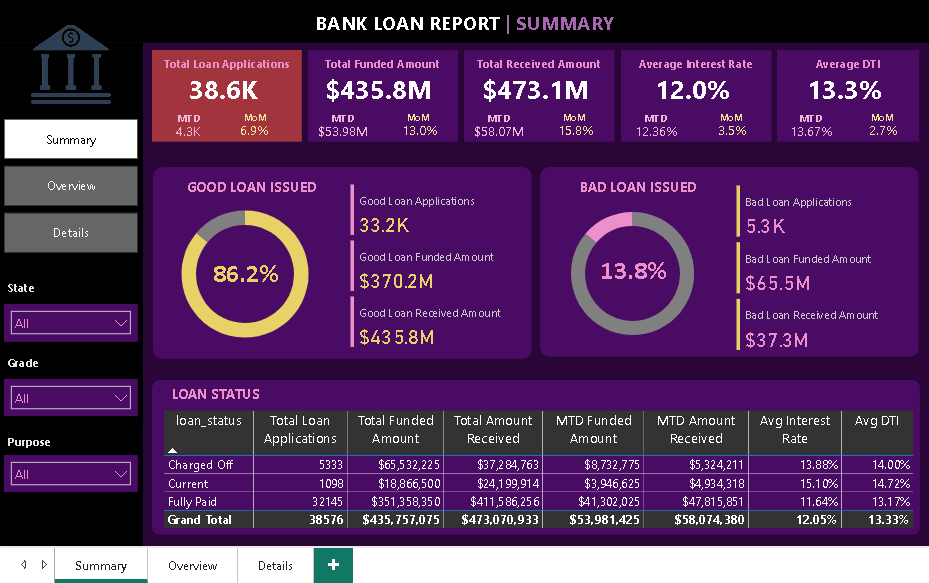

This screenshot's page, from the dashboard's own definition file:
{"tool":"powerbi","page":{"name":"Summary","canvas":[1331,780],"ordinal":0},"visuals":[{"type":"shape","box":[220,238.6,541.4,274.3],"z":0},{"type":"shape","box":[0,61.4,205.7,718.6],"z":1000},{"type":"textbox","box":[218,72,214,130.8],"z":1500,"group":"g1"},{"type":"textbox","box":[441.2,72,214,130.8],"z":1500,"group":"g3"},{"type":"textbox","box":[664.4,72,214.5,130.8],"z":1500,"group":"g4"},{"type":"textbox","box":[888.1,72,214.5,130.8],"z":1500,"group":"g5"},{"type":"textbox","box":[1111.9,72,202.8,130.8],"z":1500,"group":"g6"},{"type":"shape","box":[0,0,1331.4,61.4],"z":2000},{"type":"textbox","box":[0,7.3,1331.3,61.7],"z":3000},{"type":"group","id":"g1","title":"Group 2","box":[218,72,214,144],"z":3001,"group":"g2"},{"type":"group","id":"g2","title":"Group 1","box":[218,72,214,144],"z":4000},{"type":"card","fields":{"Values":["Date Table.Total Loan Applications"]},"box":[250.2,94,137.9,69.1],"z":4000,"group":"g1"},{"type":"card","fields":{"Values":["Date Table.Total Funded Amount"]},"box":[445.7,95.5,194,66.1],"z":4000,"group":"g3"},{"type":"card","fields":{"Values":["Date Table.Total Amount Received"]},"box":[668.9,95.5,194.5,66.1],"z":4000,"group":"g4"},{"type":"card","fields":{"Values":["Date Table.Avg Interest Rate"]},"box":[892.6,95.5,194.5,66.1],"z":4000,"group":"g5"},{"type":"card","fields":{"Values":["Date Table.Avg DTI"]},"box":[1116.1,95.5,183.8,66.1],"z":4000,"group":"g6"},{"type":"group","id":"g3","title":"Group 2","box":[441.2,72,214,144],"z":5000},{"type":"textbox","box":[218,76.4,214,48.5],"z":5000,"group":"g1"},{"type":"textbox","box":[441.2,76.4,214,48.5],"z":5000,"group":"g3"},{"type":"textbox","box":[664.4,76.4,214.5,48.5],"z":5000,"group":"g4"},{"type":"textbox","box":[888.1,76.4,214.5,48.5],"z":5000,"group":"g5"},{"type":"textbox","box":[1111.9,76.4,202.8,48.5],"z":5000,"group":"g6"},{"type":"group","id":"g4","title":"Group 2","box":[664.4,72,214.5,144],"z":6000},{"type":"card","fields":{"Values":["Date Table.MTD Loan Applications"]},"box":[226.8,163.1,86.7,52.9],"z":6000,"group":"g1"},{"type":"card","fields":{"Values":["Date Table.MTD Funded Amount"]},"box":[448.5,163.1,86.7,52.9],"z":6000,"group":"g3"},{"type":"card","fields":{"Values":["Date Table.MTD Amount Received"]},"box":[671.8,163.1,86.9,52.9],"z":6000,"group":"g4"},{"type":"card","fields":{"Values":["Date Table.MTD Avg Interest rate"]},"box":[895.5,163.1,86.9,52.9],"z":6000,"group":"g5"},{"type":"card","fields":{"Values":["Date Table.MTD Avg DTI"]},"box":[1118.9,163.1,82.2,52.9],"z":6000,"group":"g6"},{"type":"textbox","box":[248.3,152.8,66.1,42.6],"z":7000,"group":"g1"},{"type":"textbox","box":[468.6,152.8,66.1,42.6],"z":7000,"group":"g3"},{"type":"textbox","box":[691.8,152.8,66.3,42.6],"z":7000,"group":"g4"},{"type":"textbox","box":[915.5,152.8,66.3,42.6],"z":7000,"group":"g5"},{"type":"textbox","box":[1137.8,152.8,62.7,42.6],"z":7000,"group":"g6"},{"type":"textbox","box":[254.3,248.6,214.3,48.6],"z":7000},{"type":"group","id":"g5","title":"Group 2","box":[888.1,72,214.5,144],"z":8000},{"type":"card","fields":{"Values":["Date Table.MoM"]},"box":[320.9,161.6,86.7,52.9],"z":8000,"group":"g1"},{"type":"card","fields":{"Values":["Date Table.MoM Funded Amount"]},"box":[557.3,161.6,86.7,52.9],"z":8000,"group":"g3"},{"type":"card","fields":{"Values":["bank_loan_data.MoM Amount Received"]},"box":[780.8,161.6,86.9,52.9],"z":8000,"group":"g4"},{"type":"card","fields":{"Values":["Date Table.MoM Avg Interest rate"]},"box":[1004.5,161.6,86.9,52.9],"z":8000,"group":"g5"},{"type":"card","fields":{"Values":["Date Table.MoM Avg DTI"]},"box":[1221.9,161.6,82.2,52.9],"z":8000,"group":"g6"},{"type":"textbox","box":[343.3,154.3,74.9,32.3],"z":9000,"group":"g1"},{"type":"textbox","box":[576.4,154.3,64.7,32.3],"z":9000,"group":"g3"},{"type":"textbox","box":[799.9,154.3,64.8,32.3],"z":9000,"group":"g4"},{"type":"textbox","box":[1023.6,154.3,64.8,32.3],"z":9000,"group":"g5"},{"type":"textbox","box":[1240,154.3,61.3,32.3],"z":9000,"group":"g6"},{"type":"shape","box":[772.9,238.6,541.4,271.4],"z":9000},{"type":"group","id":"g6","title":"Group 2","box":[1111.9,72,202.8,144],"z":10000},{"type":"card","fields":{"Values":["Date Table.Good loan %"]},"box":[285.7,348.6,131.4,80],"z":11000},{"type":"donutChart","fields":{"Category":["bank_loan_data.Good Loan vs Bad Loan"],"Y":["CountNonNull(bank_loan_data.Good Loan vs Bad Loan)"]},"box":[220,272.9,262.9,237.1],"z":12000},{"type":"cardVisual","fields":{"Data":["Date Table.Good Loan applications","Date Table.Good Loan Funded amount","Date Table.Good Loan Received amount"]},"box":[497.1,258.6,261.4,244.3],"z":13000},{"type":"card","fields":{"Values":["Date Table.Bad loan %"]},"box":[834.3,344.3,142.9,78.6],"z":14000},{"type":"donutChart","fields":{"Category":["bank_loan_data.Good Loan vs Bad Loan"],"Y":["CountNonNull(bank_loan_data.Good Loan vs Bad Loan)"]},"box":[774.3,275.7,261.4,230],"z":15000},{"type":"cardVisual","fields":{"Data":["Date Table.Bad Loan Applications","Date Table.Bad Loan Funded Amount","Date Table.Bad Loan Received Amount"]},"box":[1048.6,260,268.6,245.7],"z":16000},{"type":"textbox","box":[824.3,248.6,185.7,61.4],"z":17000},{"type":"shape","box":[218.6,542.9,1097.1,221.4],"z":18000},{"type":"tableEx","fields":{"Values":["bank_loan_data.loan_status","Date Table.Total Loan Applications","Date Table.Total Funded Amount","Date Table.Total Amount Received","Date Table.MTD Funded Amount","Date Table.MTD Amount Received","Date Table.Avg Interest Rate","Date Table.Avg DTI"]},"box":[230,581.4,1087.1,182.9],"z":19000},{"type":"textbox","box":[241.4,544.3,207.1,37.1],"z":20000},{"type":"slicer","fields":{"Values":["bank_loan_data.grade"]},"box":[7.1,541.6,191,52.9],"z":21000},{"type":"slicer","fields":{"Values":["bank_loan_data.purpose"]},"box":[7.1,650.3,191,52.9],"z":22000},{"type":"slicer","fields":{"Values":["bank_loan_data.address_state"]},"box":[7.1,434.3,191,54.4],"z":23000},{"type":"textbox","box":[7.1,396.1,166,45.6],"z":24000},{"type":"textbox","box":[7.1,615.1,166,45.6],"z":25000},{"type":"textbox","box":[7.1,503.4,166,45.6],"z":26000},{"type":"pageNavigator","box":[7.1,170,191.4,192.9],"z":26001},{"type":"image","box":[7.1,24.3,191.4,150],"z":26002}]}

Visuals, with their boxes on the page's 1331x780 design canvas (x1, y1, x2, y2). These are canvas units, not pixel positions in the 929x583 screenshot, which may show the page scaled, cropped or inside an application window:
shape: BBox(220, 239, 761, 513)
shape: BBox(0, 61, 206, 780)
textbox: BBox(218, 72, 432, 203)
textbox: BBox(441, 72, 655, 203)
textbox: BBox(664, 72, 879, 203)
textbox: BBox(888, 72, 1103, 203)
textbox: BBox(1112, 72, 1315, 203)
shape: BBox(0, 0, 1331, 61)
textbox: BBox(0, 7, 1331, 69)
"Group 2" group: BBox(218, 72, 432, 216)
"Group 1" group: BBox(218, 72, 432, 216)
card - Date Table.Total Loan Applications: BBox(250, 94, 388, 163)
card - Date Table.Total Funded Amount: BBox(446, 96, 640, 162)
card - Date Table.Total Amount Received: BBox(669, 96, 863, 162)
card - Date Table.Avg Interest Rate: BBox(893, 96, 1087, 162)
card - Date Table.Avg DTI: BBox(1116, 96, 1300, 162)
"Group 2" group: BBox(441, 72, 655, 216)
textbox: BBox(218, 76, 432, 125)
textbox: BBox(441, 76, 655, 125)
textbox: BBox(664, 76, 879, 125)
textbox: BBox(888, 76, 1103, 125)
textbox: BBox(1112, 76, 1315, 125)
"Group 2" group: BBox(664, 72, 879, 216)
card - Date Table.MTD Loan Applications: BBox(227, 163, 314, 216)
card - Date Table.MTD Funded Amount: BBox(448, 163, 535, 216)
card - Date Table.MTD Amount Received: BBox(672, 163, 759, 216)
card - Date Table.MTD Avg Interest rate: BBox(896, 163, 982, 216)
card - Date Table.MTD Avg DTI: BBox(1119, 163, 1201, 216)
textbox: BBox(248, 153, 314, 195)
textbox: BBox(469, 153, 535, 195)
textbox: BBox(692, 153, 758, 195)
textbox: BBox(916, 153, 982, 195)
textbox: BBox(1138, 153, 1200, 195)
textbox: BBox(254, 249, 469, 297)
"Group 2" group: BBox(888, 72, 1103, 216)
card - Date Table.MoM: BBox(321, 162, 408, 214)
card - Date Table.MoM Funded Amount: BBox(557, 162, 644, 214)
card - bank_loan_data.MoM Amount Received: BBox(781, 162, 868, 214)
card - Date Table.MoM Avg Interest rate: BBox(1004, 162, 1091, 214)
card - Date Table.MoM Avg DTI: BBox(1222, 162, 1304, 214)
textbox: BBox(343, 154, 418, 187)
textbox: BBox(576, 154, 641, 187)
textbox: BBox(800, 154, 865, 187)
textbox: BBox(1024, 154, 1088, 187)
textbox: BBox(1240, 154, 1301, 187)
shape: BBox(773, 239, 1314, 510)
"Group 2" group: BBox(1112, 72, 1315, 216)
card - Date Table.Good loan %: BBox(286, 349, 417, 429)
donutChart - bank_loan_data.Good Loan vs Bad Loan x CountNonNull(bank_loan_data.Good Loan vs Bad Loan): BBox(220, 273, 483, 510)
cardVisual - Date Table.Good Loan applications x Date Table.Good Loan Funded amount: BBox(497, 259, 758, 503)
card - Date Table.Bad loan %: BBox(834, 344, 977, 423)
donutChart - bank_loan_data.Good Loan vs Bad Loan x CountNonNull(bank_loan_data.Good Loan vs Bad Loan): BBox(774, 276, 1036, 506)
cardVisual - Date Table.Bad Loan Applications x Date Table.Bad Loan Funded Amount: BBox(1049, 260, 1317, 506)
textbox: BBox(824, 249, 1010, 310)
shape: BBox(219, 543, 1316, 764)
tableEx - bank_loan_data.loan_status x Date Table.Total Loan Applications: BBox(230, 581, 1317, 764)
textbox: BBox(241, 544, 448, 581)
slicer - bank_loan_data.grade: BBox(7, 542, 198, 594)
slicer - bank_loan_data.purpose: BBox(7, 650, 198, 703)
slicer - bank_loan_data.address_state: BBox(7, 434, 198, 489)
textbox: BBox(7, 396, 173, 442)
textbox: BBox(7, 615, 173, 661)
textbox: BBox(7, 503, 173, 549)
pageNavigator: BBox(7, 170, 198, 363)
image: BBox(7, 24, 198, 174)
